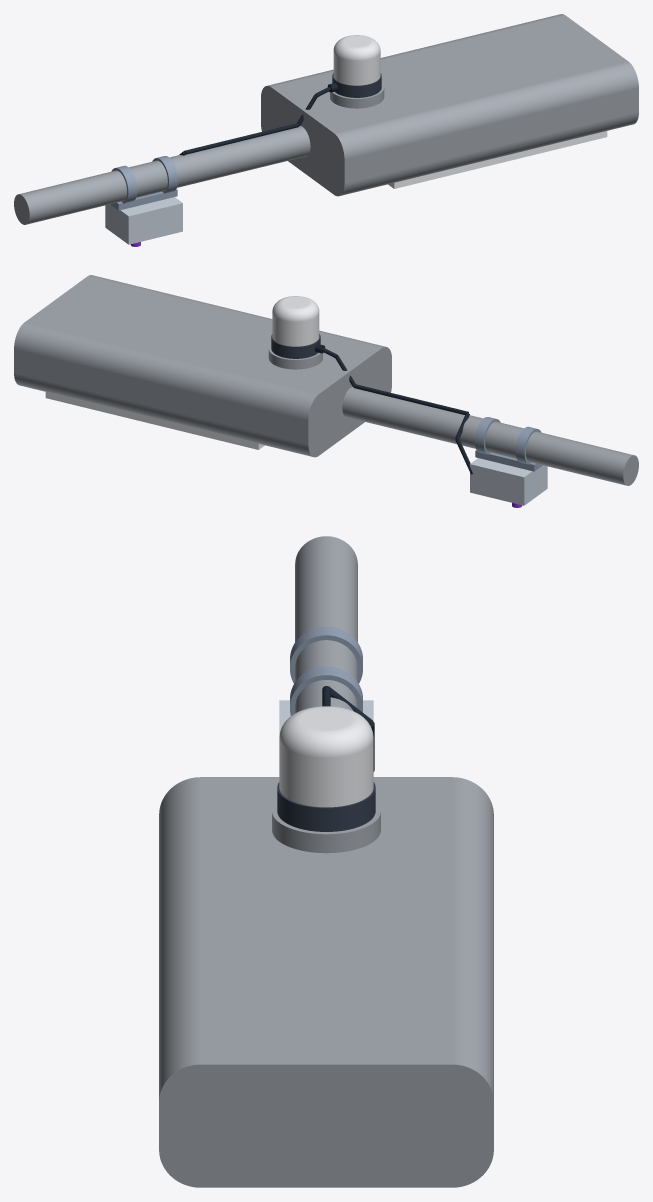
3 renders of one model, top to bottom at view 1: azimuth 30°, elevation 25°; view 2: azimuth 150°, elevation 25°; view 3: azimuth 270°, elevation 25°, orthographic. The views are drawn at different scales.
Visible parts, largest first — view 1: Existing luminaire and arm, Sensor head enclosure, Dome cover, UV-stable, Luminaire lens, Arm band clamps, M12 port and cable, Twist-lock base, 7-contact; view 2: Existing luminaire and arm, Sensor head enclosure, Dome cover, UV-stable, Luminaire lens, Arm band clamps, M12 port and cable, Twist-lock base, 7-contact; view 3: Existing luminaire and arm, Dome cover, UV-stable, Arm band clamps, Twist-lock base, 7-contact.
Boxes of the visible parts, x1,y1,x2,y2 form: Existing luminaire and arm: (14,14,638,224); Sensor head enclosure: (105,197,182,244); Dome cover, UV-stable: (333,35,380,85); Luminaire lens: (388,131,607,188); Arm band clamps: (110,156,178,210); M12 port and cable: (179,83,338,155); Twist-lock base, 7-contact: (332,73,381,97); Existing luminaire and arm: (14,275,638,485); Sensor head enclosure: (470,458,547,505); Dome cover, UV-stable: (272,296,319,346); Luminaire lens: (45,392,264,449); Arm band clamps: (474,417,542,471); M12 port and cable: (314,344,472,474); Twist-lock base, 7-contact: (271,334,320,358); Existing luminaire and arm: (159,536,493,1187); Dome cover, UV-stable: (279,706,373,807); Arm band clamps: (290,626,362,715); Twist-lock base, 7-contact: (277,782,375,831).
Bounding box in the file's own units: 1.27 × 0.304 × 0.32.
